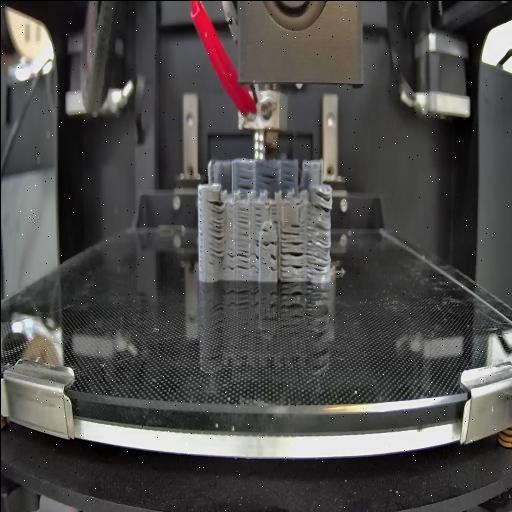cracks: (306, 220, 328, 274), (206, 198, 224, 258), (280, 238, 304, 274), (234, 206, 248, 236), (310, 192, 332, 211), (235, 247, 249, 270), (236, 172, 252, 192), (280, 221, 300, 235), (251, 238, 259, 273), (225, 244, 235, 272), (252, 203, 262, 227), (260, 172, 276, 186), (268, 250, 276, 274), (260, 238, 278, 248), (268, 204, 276, 224), (282, 168, 292, 183), (261, 224, 268, 234)
